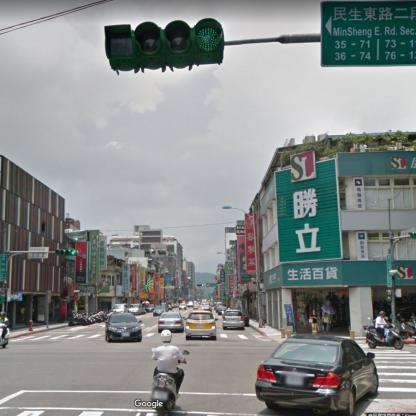Green Light: (100, 21, 224, 61), (53, 247, 79, 256)
